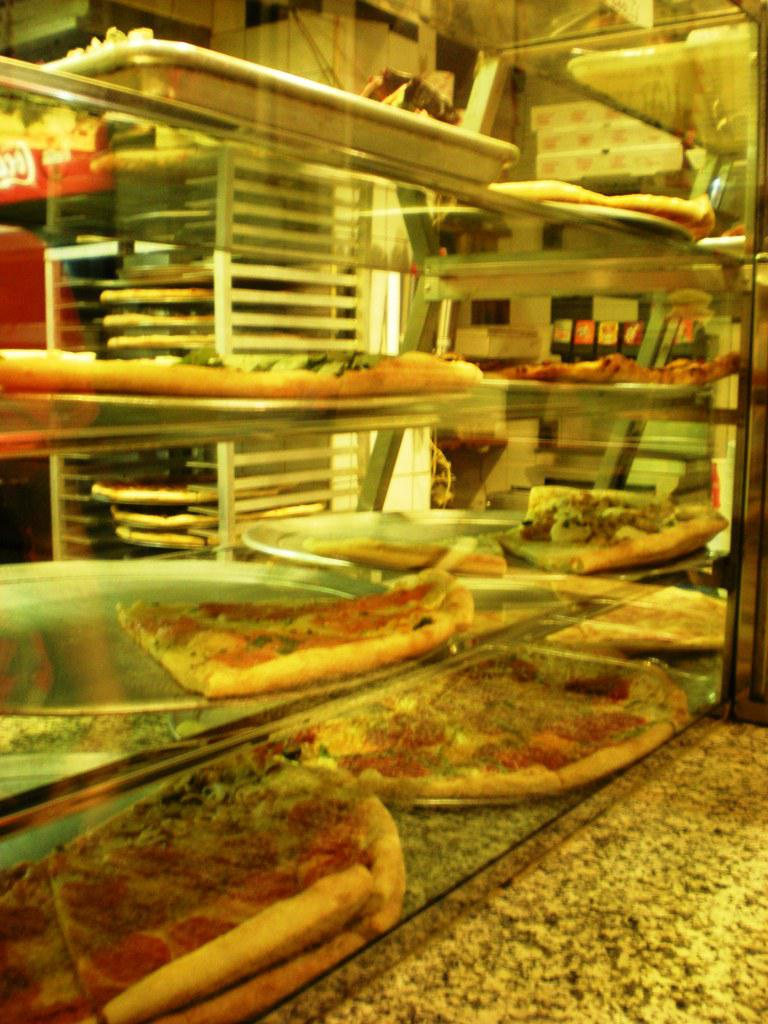Pizza: (0, 757, 416, 1022), (286, 638, 690, 826), (110, 583, 472, 691), (0, 330, 487, 392), (507, 483, 744, 576), (501, 346, 767, 401), (308, 531, 516, 586)
